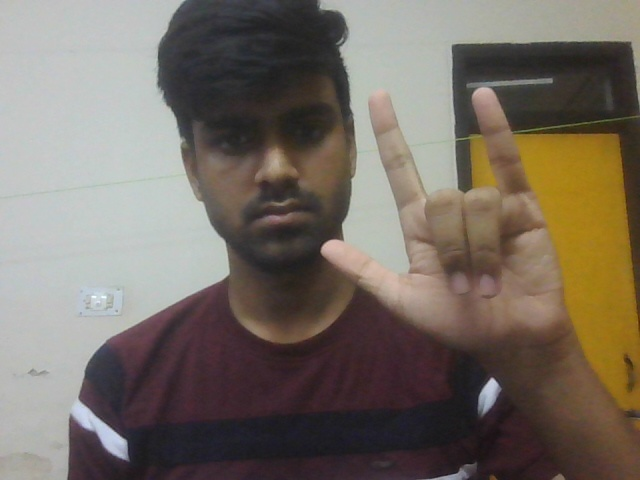iloveyou: (309, 83, 613, 383)
